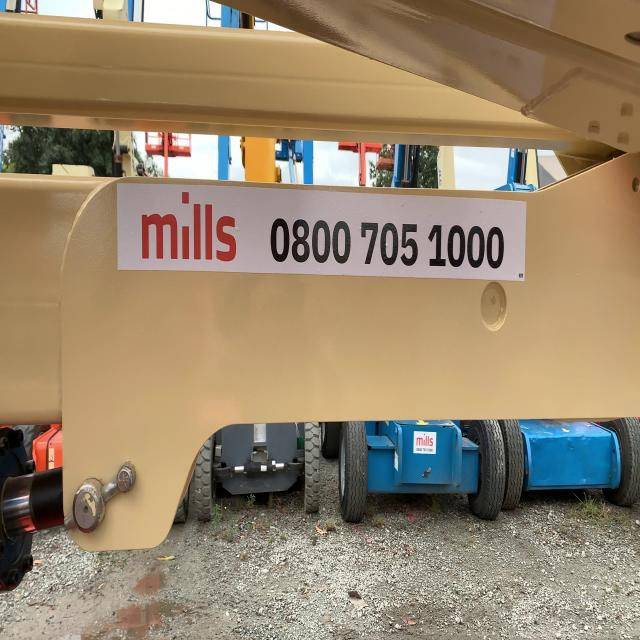Adesivo Longo: (117, 178, 529, 284)
